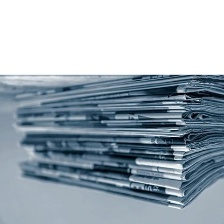news_paper: (6, 74, 223, 210)
